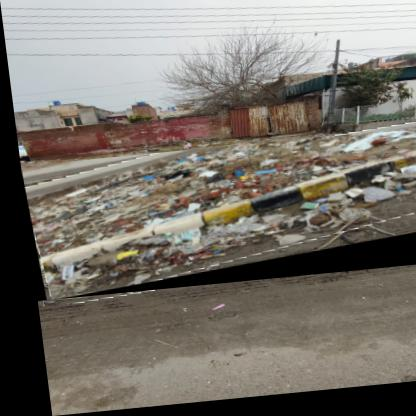Garbage: (17, 135, 416, 304)
